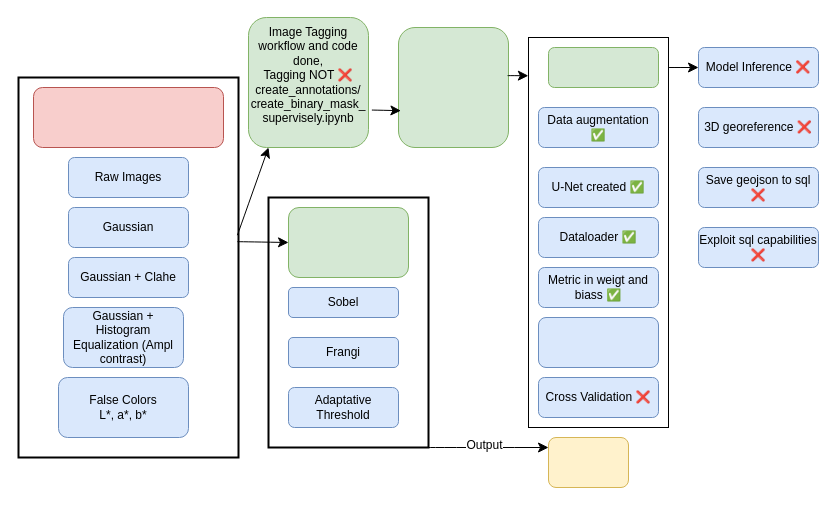
Image size: 836x505. Some labels were removed from this diagram. Here are the shapes that lost their labels. From the top down, the centre of each, then its label:
At (453,87): "Image preparation for U-Net ✅ u-net/data/ to_tif_a.ipynb cut_photos_b.ipynb".
At (603,67): "U-Net Modules".
At (128,117): "Image enhancement Figura 1 i 2 ✅".
At (348,242): "Automatic detection algorithms + Tile pre and post + 2.5D Georefrence ✅".
At (598,342): "Hyperparametrizacion Optuna In progress...".
At (588,462): "GEOJSON 2.5, ✅ compatible sql".
